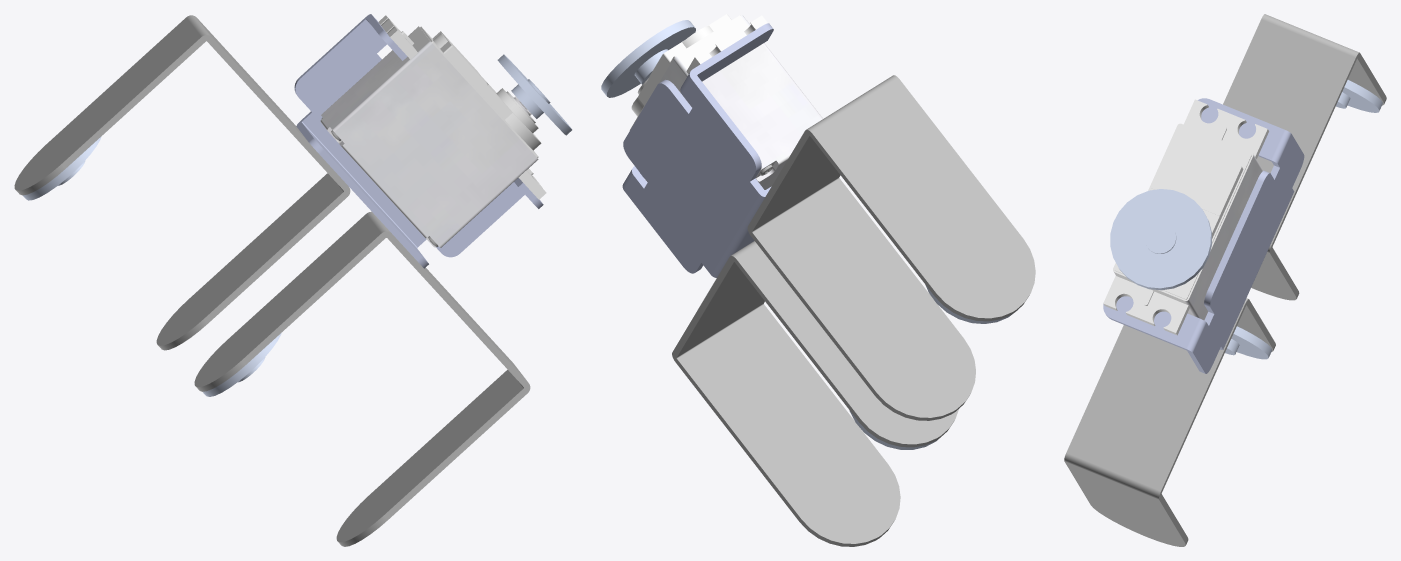
File: r_upperarm_link.dae
3 views of the same model, side by side, from view 1: azimuth 30°, elevation 25°; view 2: azimuth 150°, elevation 25°; view 3: azimuth 270°, elevation 25° (orthographic). The views are drawn at different scales.
Visible parts, largest first — view 1: Actor0; view 2: Actor0; view 3: Actor0.
Part boxes in pixels (box(x1,y1,x2,y2)): Actor0: box(14, 14, 572, 546); Actor0: box(601, 14, 1035, 546); Actor0: box(1064, 14, 1386, 546).
Bounding box in the file's own units: 0.1249 × 0.1261 × 0.0757.
7 materials, 2 textured.
